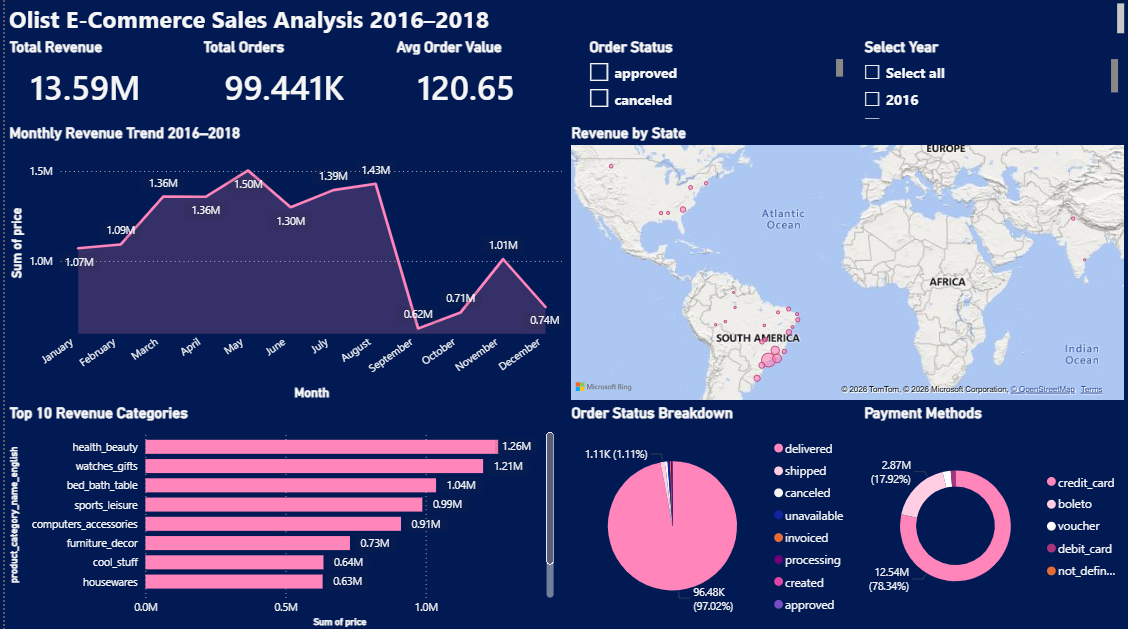

This screenshot's page, from the dashboard's own definition file:
{"tool":"powerbi","page":{"name":"Page 1","canvas":[1280,720],"ordinal":0},"visuals":[{"type":"cardVisual","title":"Total Revenue","fields":{"Data":["Sum(olist_ecommerce olist_order_items.price)"]},"box":[0,45,228.8,88.7],"z":0},{"type":"cardVisual","title":"Avg Order Value","fields":{"Data":["Avg(olist_ecommerce olist_order_items.price)"]},"box":[440.9,44.4,189.1,88.9],"z":1000},{"type":"lineChart","title":"Monthly Revenue Trend 2016–2018","fields":{"Category":["olist_ecommerce olist_orders.order_purchase_timestamp.Variation.Date Hierarchy.Month"],"Y":["Sum(olist_ecommerce olist_order_items.price)"]},"box":[0,142.4,640.3,319],"z":2000},{"type":"clusteredBarChart","title":"Top 10 Revenue Categories","fields":{"Y":["Sum(olist_ecommerce olist_order_items.price)"],"Category":["olist_ecommerce product_category_name_translation.product_category_name_english"]},"box":[0,461.4,630,258.6],"z":3000},{"type":"donutChart","title":"Payment Methods","fields":{"Category":["olist_ecommerce olist_order_payments.payment_type"],"Y":["Sum(olist_ecommerce olist_order_payments.payment_value)"]},"box":[974.1,461.4,306.5,258.6],"z":4000},{"type":"pieChart","title":"Order Status Breakdown","fields":{"Category":["olist_ecommerce olist_orders.order_status"],"Y":["CountNonNull(olist_ecommerce olist_orders.order_id)"]},"box":[640.3,461.4,329.2,258.6],"z":5000},{"type":"map","title":"Revenue by State","fields":{"Size":["Sum(olist_ecommerce olist_order_items.price)"],"Category":["olist_ecommerce olist_customers.customer_state"]},"box":[640,142.7,640,318.7],"z":6000},{"type":"listSlicer","title":"Select Year","fields":{"Values":["olist_ecommerce olist_orders.order_purchase_timestamp.Variation.Date Hierarchy.Year"]},"box":[974.1,45,299.4,97.7],"z":7000},{"type":"listSlicer","title":"Order Status","fields":{"Values":["olist_ecommerce olist_orders.order_status"]},"box":[660.6,45,299.4,88.7],"z":8000},{"type":"cardVisual","title":"Total Orders","fields":{"Data":["Count(olist_ecommerce olist_orders.order_id)"]},"box":[221,45,219.8,88.7],"z":9000},{"type":"textbox","box":[0,0,1280,45],"z":10000}]}

Visuals, with their boxes in screenshot pixels (x1, y1, x2, y2), scaled from the page's 1280x720 canvas onto the 1128x629 screenshot:
"Total Revenue" cardVisual: <region>0, 39, 202, 117</region>
"Avg Order Value" cardVisual: <region>389, 39, 555, 116</region>
"Monthly Revenue Trend 2016–2018" lineChart: <region>0, 124, 564, 403</region>
"Top 10 Revenue Categories" clusteredBarChart: <region>0, 403, 555, 628</region>
"Payment Methods" donutChart: <region>858, 403, 1127, 628</region>
"Order Status Breakdown" pieChart: <region>564, 403, 854, 628</region>
"Revenue by State" map: <region>564, 125, 1127, 403</region>
"Select Year" listSlicer: <region>858, 39, 1122, 125</region>
"Order Status" listSlicer: <region>582, 39, 846, 117</region>
"Total Orders" cardVisual: <region>195, 39, 388, 117</region>
textbox: <region>0, 0, 1127, 39</region>
